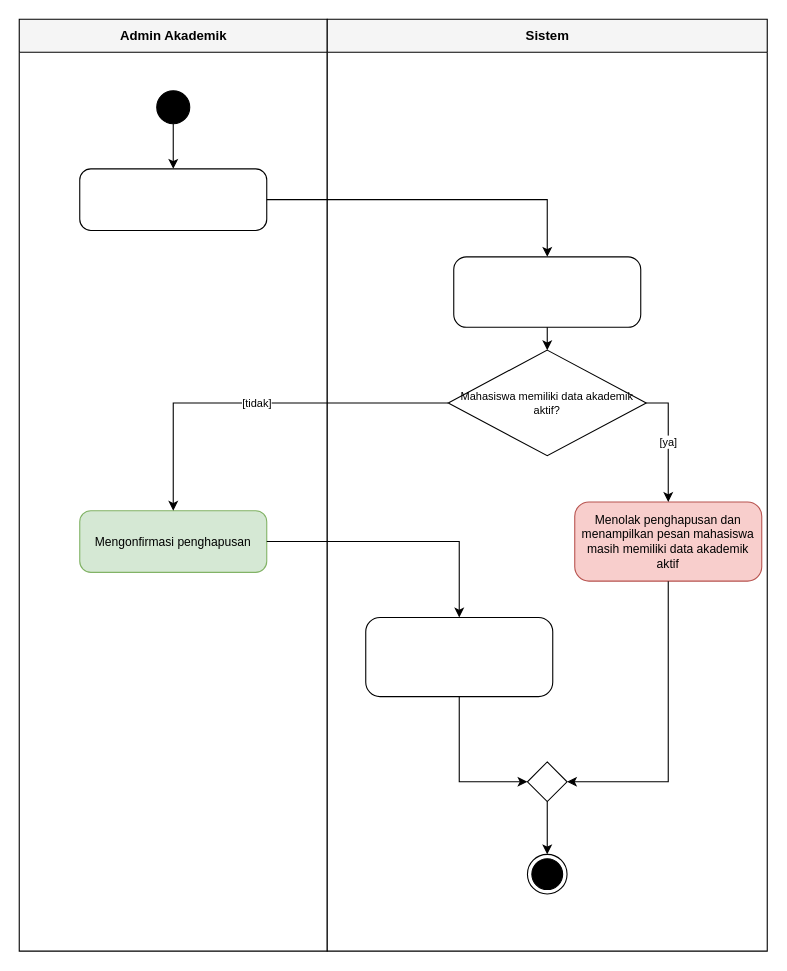
The diagram is 787 pixels wide and 971 high, and some of its shapes have lost their labels. Here are the shapes that lost their labels. From the top down, the centre of each, then its label:
At [173,199]: "Memilih data mahasiswa yang akan dihapus".
At [547,291]: "Memeriksa mahasiswa tidak memiliki data akademik aktif".
At [459,656]: "Menghapus data mahasiswa dan menampilkan konfirmasi penghapusan".
